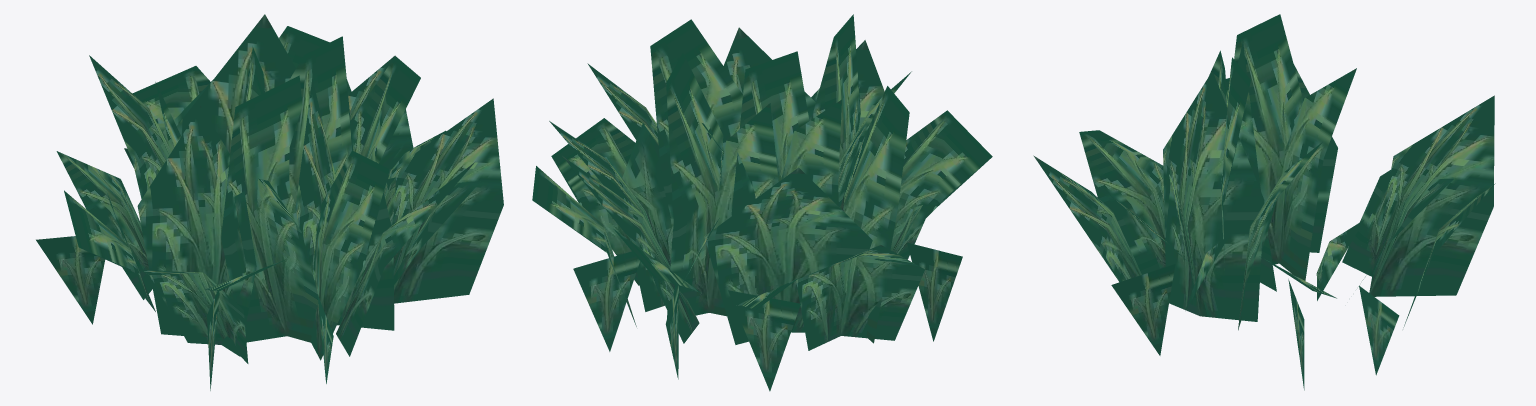
Rendered from grassPatch2.glb.
3 views of the same model, side by side, from view 1: azimuth 30°, elevation 25°; view 2: azimuth 150°, elevation 25°; view 3: azimuth 270°, elevation 25° (orthographic). The views are drawn at different scales.
Parts seen in each view (by area): view 1: 6sm_tallgrass_b02_Geoset0; view 2: 6sm_tallgrass_b02_Geoset0; view 3: 6sm_tallgrass_b02_Geoset0.
Boxes of the visible parts, x1,y1,x2,y2 form: 6sm_tallgrass_b02_Geoset0: [36, 14, 503, 390]; 6sm_tallgrass_b02_Geoset0: [532, 14, 992, 391]; 6sm_tallgrass_b02_Geoset0: [1033, 14, 1495, 390].
Bounding box in the file's own units: 7.17 × 4.8 × 7.45.
Materials: 1 (1 with a texture image).
